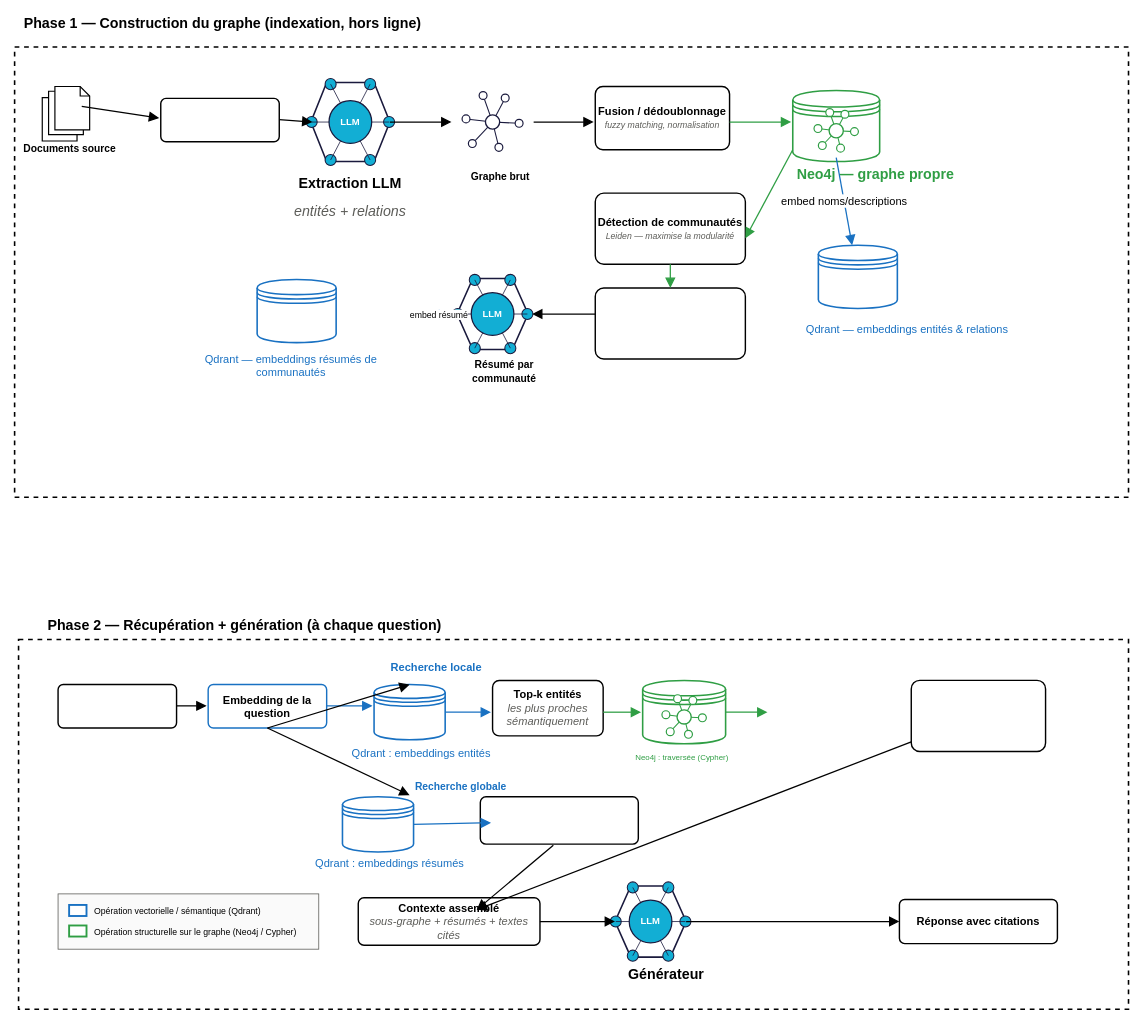
This 1142x1023 diagram has some shape labels left out. The shapes that lost their labels are listed below. From the top down, each one's centre as x and y in pixels, then its label:
the point at 220,119: Chunking découpage en passages
the point at 670,323: Communautés hiérarchiques niveau 0 (fin) → niveau 1 (large)
the point at 117,705: Question utilisateur
the point at 978,715: Sous-graphe voisinage + relations + textes source
the point at 559,820: Résumés de communautés pertinents
